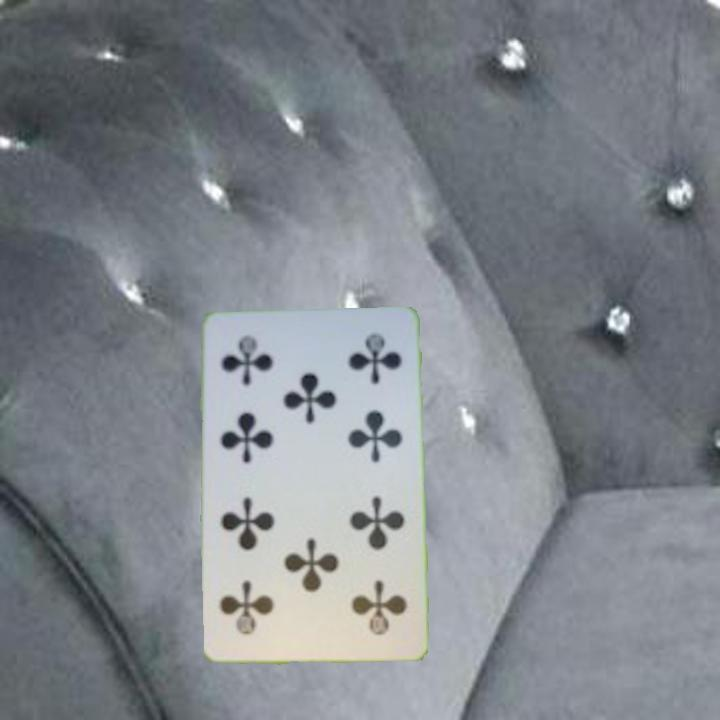c_10.png: (311, 558, 413, 647), (210, 325, 313, 413)
